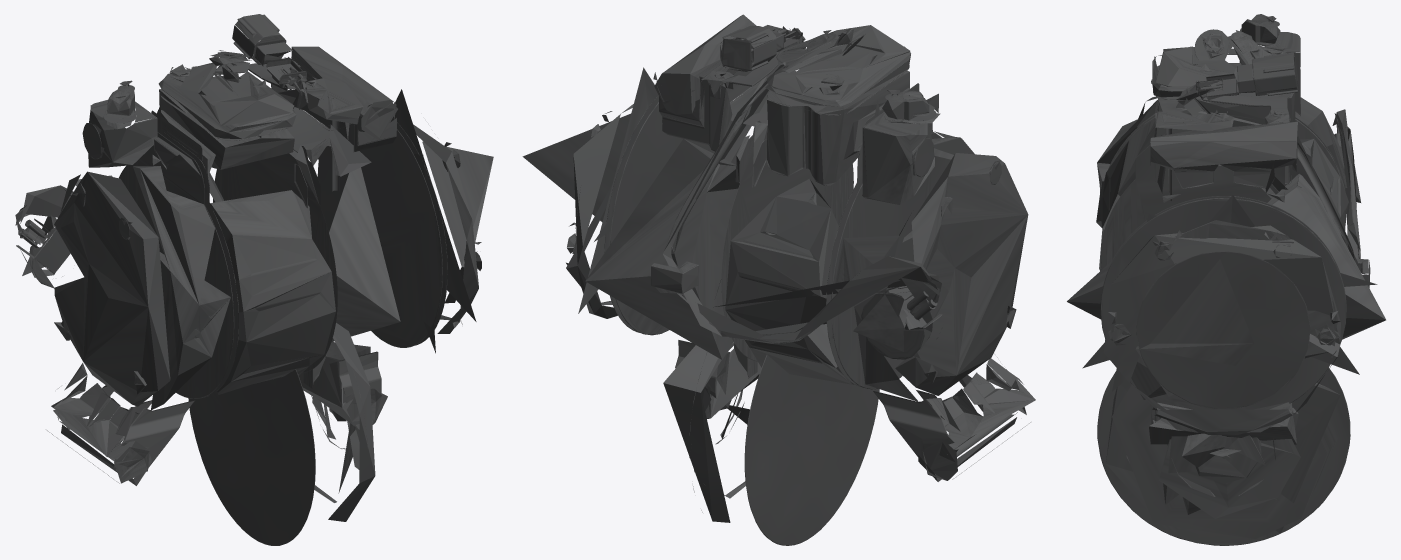
File: airSystem_compressor_d01.glb
3 views of the same model, side by side, from view 1: azimuth 30°, elevation 25°; view 2: azimuth 150°, elevation 25°; view 3: azimuth 270°, elevation 25° (orthographic). The views are drawn at different scales.
Parts seen in each view (by area): view 1: geometry_0; view 2: geometry_0; view 3: geometry_0.
Boxes of the visible parts, x1,y1,x2,y2 form: geometry_0: [15, 14, 493, 545]; geometry_0: [522, 14, 1035, 545]; geometry_0: [1067, 14, 1385, 545].
Bounding box in the file's own units: 0.3935 × 0.42 × 0.2536.
Materials: 1 (1 with a texture image).
